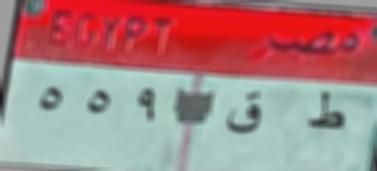5: (32, 82, 69, 118), (86, 84, 120, 117)
9: (130, 86, 169, 120)
Taa: (302, 90, 352, 134)
qaaf: (222, 88, 267, 138)
